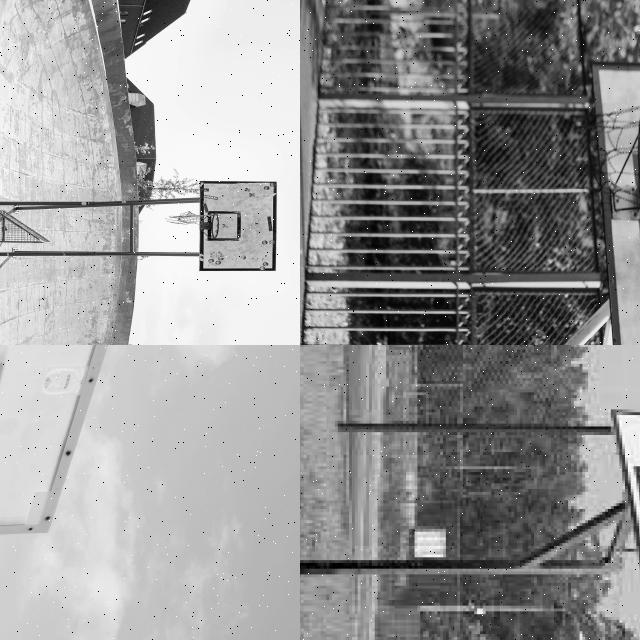backboard: (586, 60, 640, 345), (199, 181, 278, 273)
